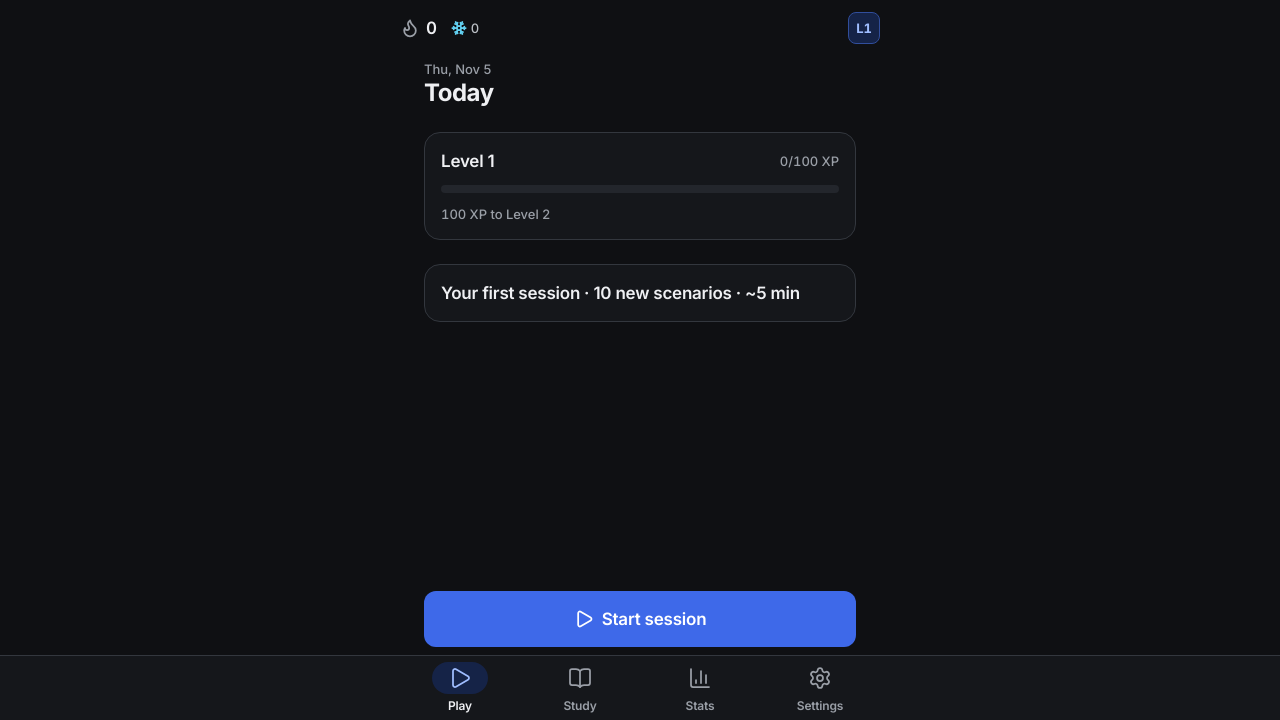
Test: AppShell navigation › tapping Settings navigates, titles the TopBar and moves aria-current
Click the link "Settings" at (820, 690), box x1=797 y1=666 x2=843 y2=713
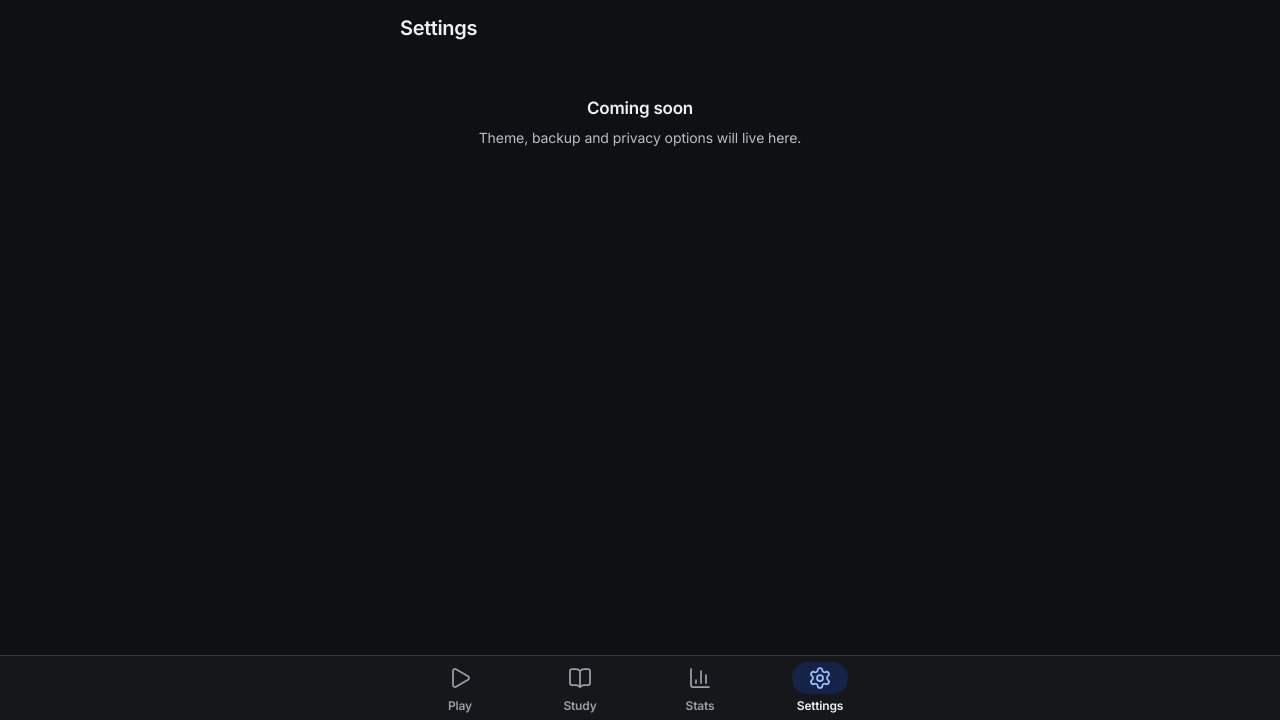
Check: the heading "Settings" is shown, box x1=400 y1=14 x2=477 y2=40
Check: the heading "Coming soon" is shown, box x1=587 y1=96 x2=693 y2=120
